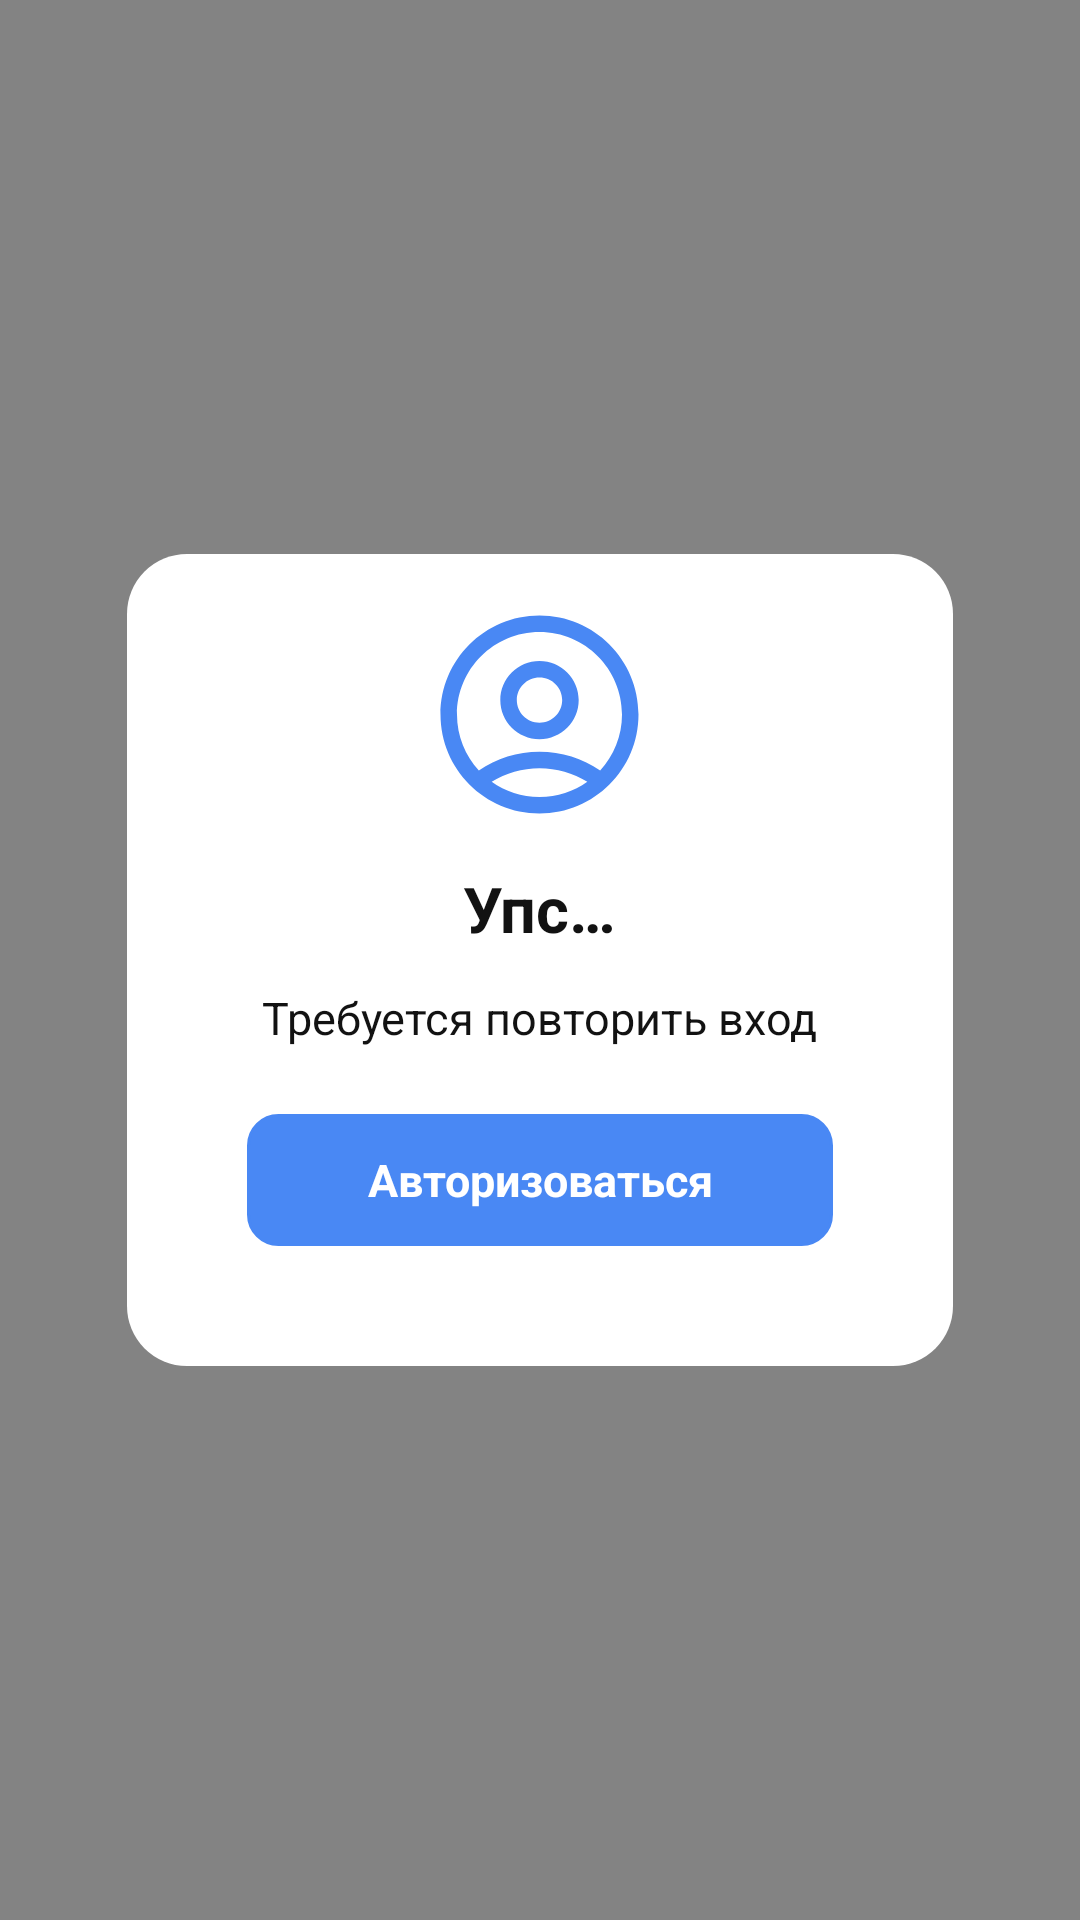

Screen size 1080w x 1920h. Icon name, then its center in pixels as point (x, y):
user encircled: point (539, 714)
